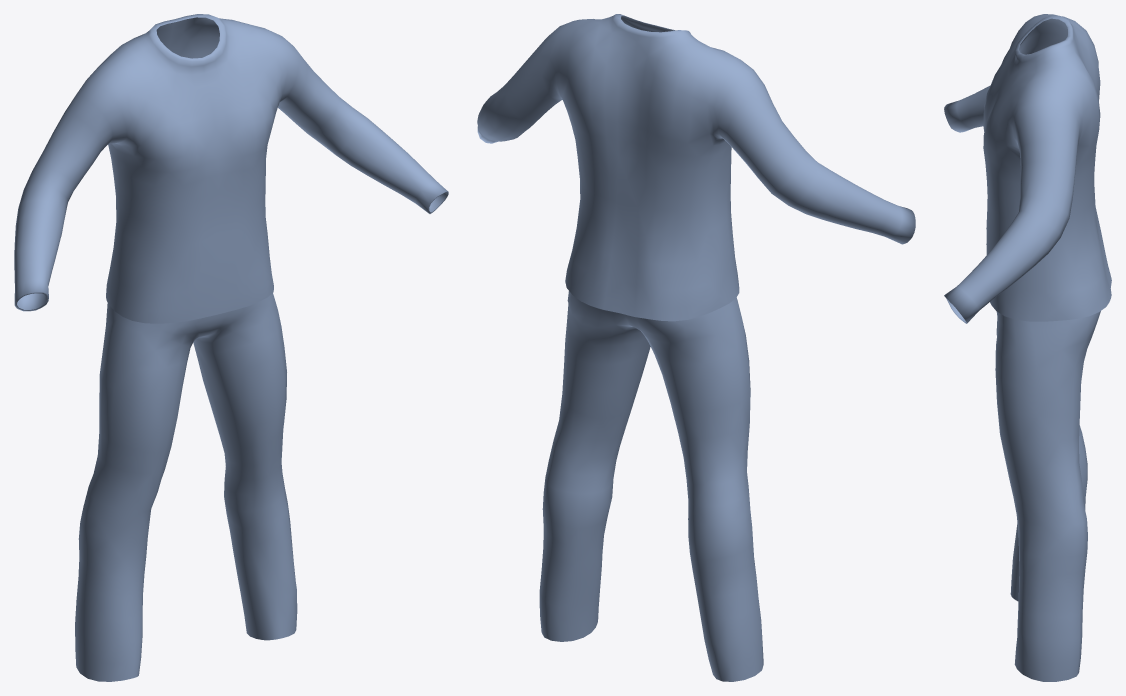
File: casualsuit02.glb
3 views of the same model, side by side, from view 1: azimuth 30°, elevation 25°; view 2: azimuth 150°, elevation 25°; view 3: azimuth 270°, elevation 25° (orthographic). The views are drawn at different scales.
Parts seen in each view (by area): view 1: casualsuit02; view 2: casualsuit02; view 3: casualsuit02.
Boxes of the visible parts, <box> form: casualsuit02: <box>14,14,448,681</box>; casualsuit02: <box>477,14,915,681</box>; casualsuit02: <box>944,14,1111,681</box>.
Bounding box in the file's own units: 1.01 × 1.4 × 0.3519.
